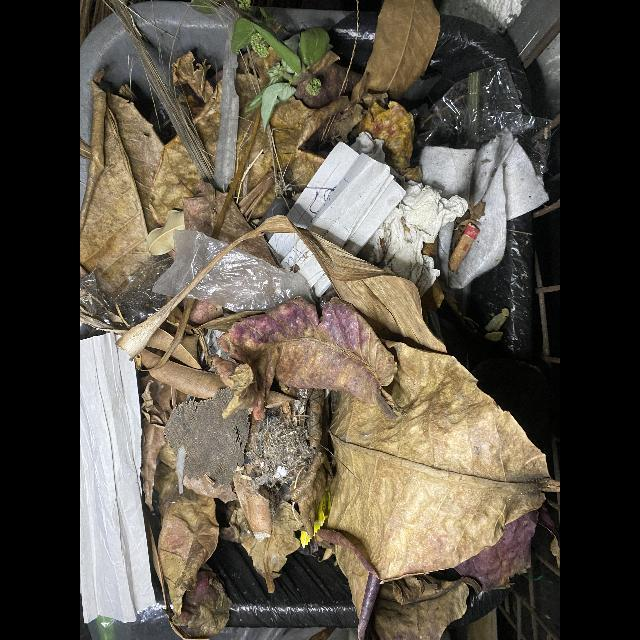biowaste: (319, 340, 560, 639), (115, 215, 448, 357), (209, 297, 403, 420), (80, 68, 164, 294), (348, 0, 440, 107), (156, 461, 218, 617), (183, 185, 277, 265), (230, 502, 305, 592), (137, 349, 229, 399), (232, 19, 302, 73), (142, 384, 165, 513), (147, 328, 205, 370), (147, 210, 185, 256), (196, 310, 269, 332)
paper: (80, 332, 157, 623), (288, 142, 405, 255), (356, 180, 467, 299)
